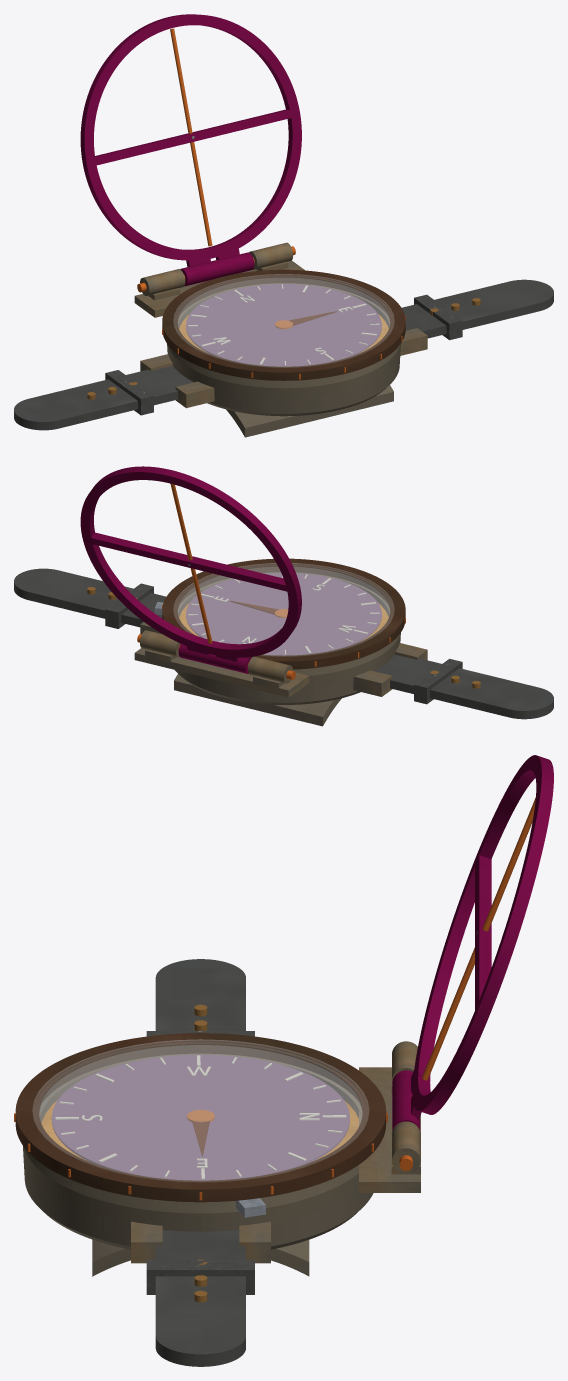
Rendered from pictureX_0611_compass__0118.glb.
3 views of the same model, one above another, from view 1: azimuth 30°, elevation 25°; view 2: azimuth 150°, elevation 25°; view 3: azimuth 270°, elevation 25° (orthographic). The views are drawn at different scales.
Parts seen in each view (by area): view 1: bezel::glass_lens, dial_card::card_disk, cover::sight_frame, bezel::bezel_ring, case::case_shell, case::strap_band_left, case::strap_band_right, case::wrist_cradle, cover::cover_knuckle, cover::sight_wire, case::strap_keeper_left, case::strap_keeper_right (+5 smaller); view 2: bezel::glass_lens, cover::sight_frame, dial_card::card_disk, bezel::bezel_ring, case::strap_band_left, case::case_shell, case::strap_band_right, case::hinge_bridge, case::wrist_cradle, case::strap_keeper_left, cover::cover_knuckle, case::hinge_knuckle_0 (+6 smaller); view 3: bezel::glass_lens, dial_card::card_disk, bezel::bezel_ring, case::case_shell, cover::sight_frame, case::strap_band_right, case::strap_band_left, case::hinge_bridge, case::strap_keeper_right, cover::sight_wire, case::wrist_cradle, case::hinge_knuckle_1 (+4 smaller).
Boxes of the visible parts, left/top/right/bottom form: bezel::glass_lens: left=173, top=274, right=394, bottom=367; dial_card::card_disk: left=186, top=284, right=381, bottom=366; cover::sight_frame: left=80, top=14, right=301, bottom=266; bezel::bezel_ring: left=162, top=269, right=405, bottom=380; case::case_shell: left=167, top=283, right=400, bottom=416; case::strap_band_left: left=14, top=366, right=193, bottom=430; case::strap_band_right: left=402, top=279, right=553, bottom=338; case::wrist_cradle: left=226, top=385, right=393, bottom=437; cover::cover_knuckle: left=180, top=252, right=254, bottom=286; cover::sight_wire: left=170, top=28, right=212, bottom=246; case::strap_keeper_left: left=105, top=370, right=153, bottom=415; case::strap_keeper_right: left=414, top=294, right=462, bottom=340; bezel::glass_lens: left=173, top=563, right=394, bottom=656; cover::sight_frame: left=80, top=466, right=301, bottom=661; dial_card::card_disk: left=186, top=573, right=381, bottom=655; bezel::bezel_ring: left=162, top=558, right=405, bottom=669; case::strap_band_left: left=374, top=654, right=553, bottom=719; case::case_shell: left=175, top=572, right=400, bottom=704; case::strap_band_right: left=14, top=568, right=165, bottom=627; case::hinge_bridge: left=134, top=648, right=309, bottom=697; case::wrist_cradle: left=174, top=674, right=341, bottom=726; case::strap_keeper_left: left=414, top=658, right=462, bottom=704; cover::cover_knuckle: left=178, top=644, right=252, bottom=673; case::hinge_knuckle_0: left=248, top=656, right=293, bottom=683; bezel::glass_lens: left=32, top=1039, right=368, bottom=1182; dial_card::card_disk: left=51, top=1054, right=349, bottom=1180; bezel::bezel_ring: left=15, top=1033, right=386, bottom=1202; case::case_shell: left=23, top=1053, right=373, bottom=1249; cover::sight_frame: left=411, top=755, right=553, bottom=1119; case::strap_band_right: left=155, top=1230, right=245, bottom=1366; case::strap_band_left: left=155, top=959, right=245, bottom=1030; case::hinge_bridge: left=359, top=1067, right=420, bottom=1192; case::strap_keeper_right: left=146, top=1260, right=254, bottom=1294; cover::sight_wire: left=422, top=797, right=535, bottom=1080; case::wrist_cradle: left=92, top=1239, right=309, bottom=1276; case::hinge_knuckle_1: left=392, top=1121, right=420, bottom=1173.
Bounding box in the file's own units: 0.203 × 0.1072 × 0.1172.
40 materials, 10 textured.
